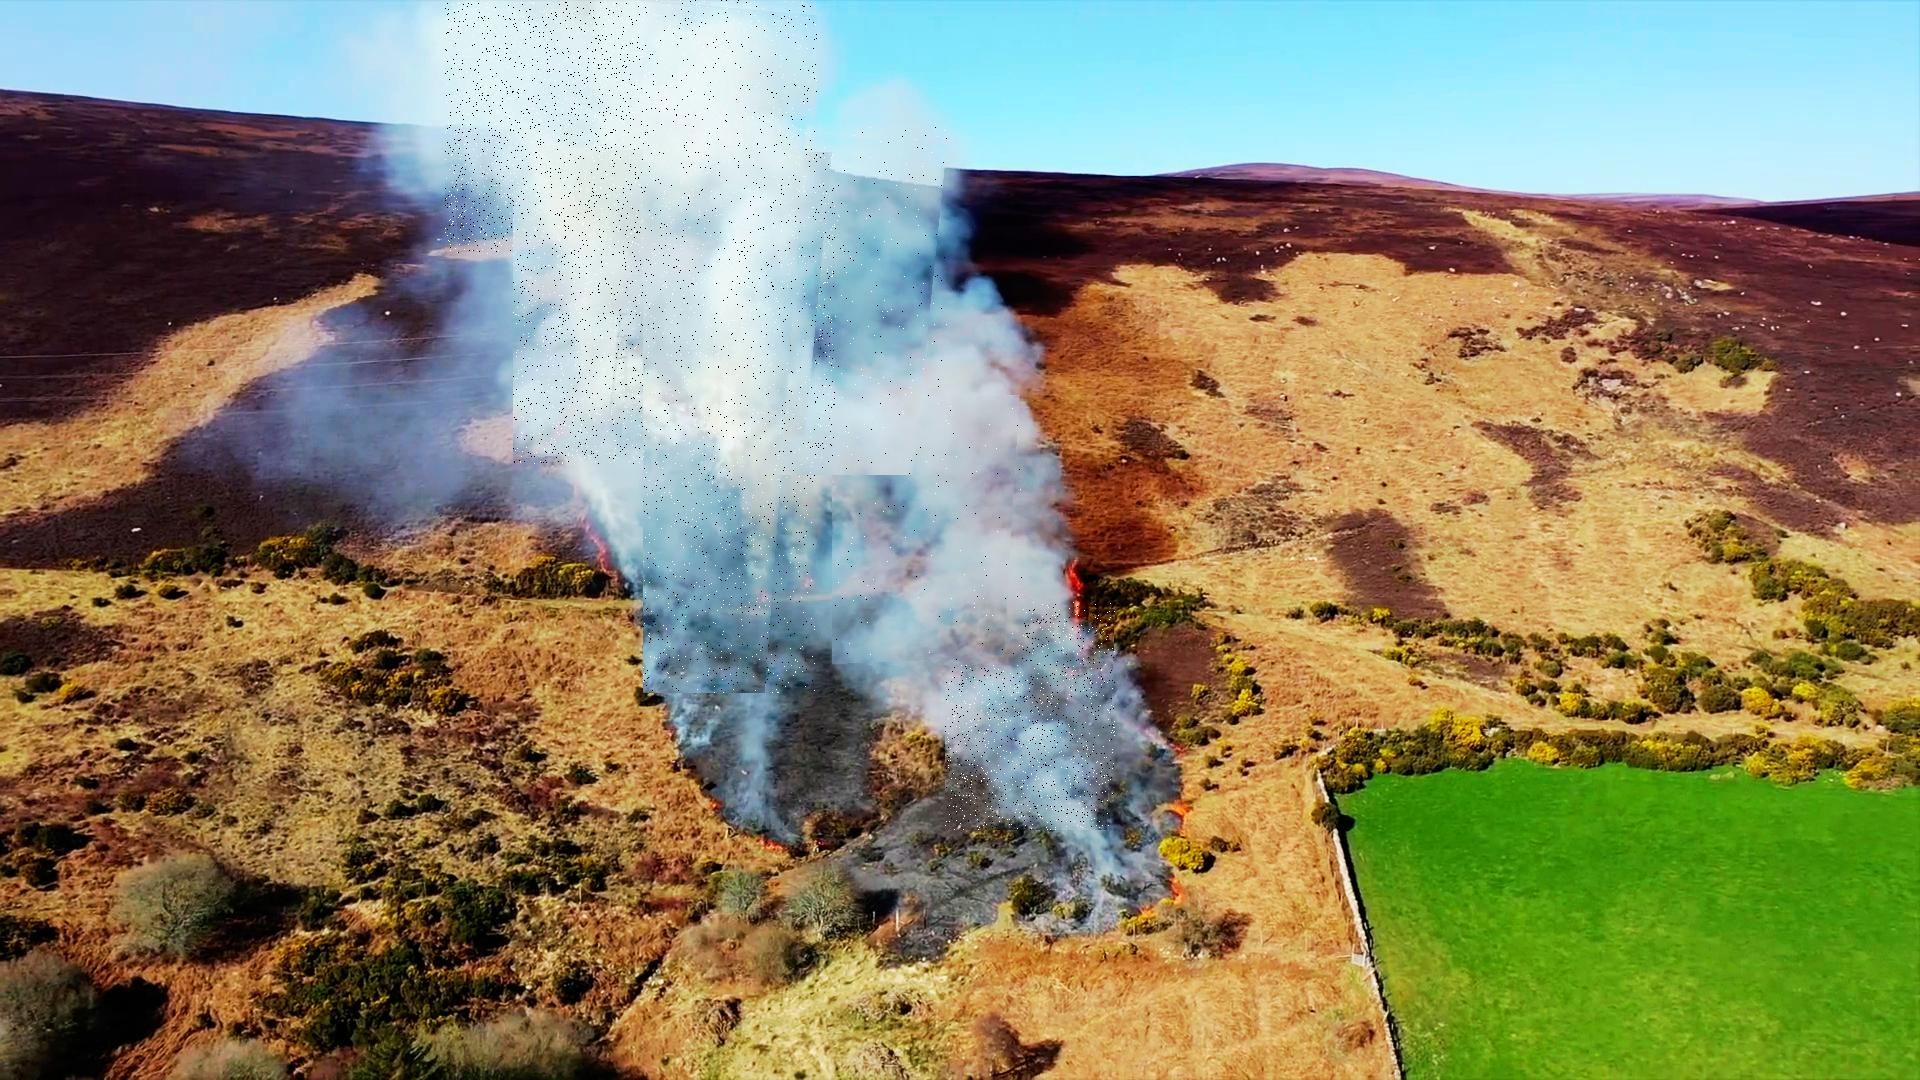smoke: (644, 0, 815, 694), (513, 153, 835, 464), (446, 3, 818, 255), (703, 125, 947, 475), (833, 396, 1023, 665), (945, 603, 1116, 831)
